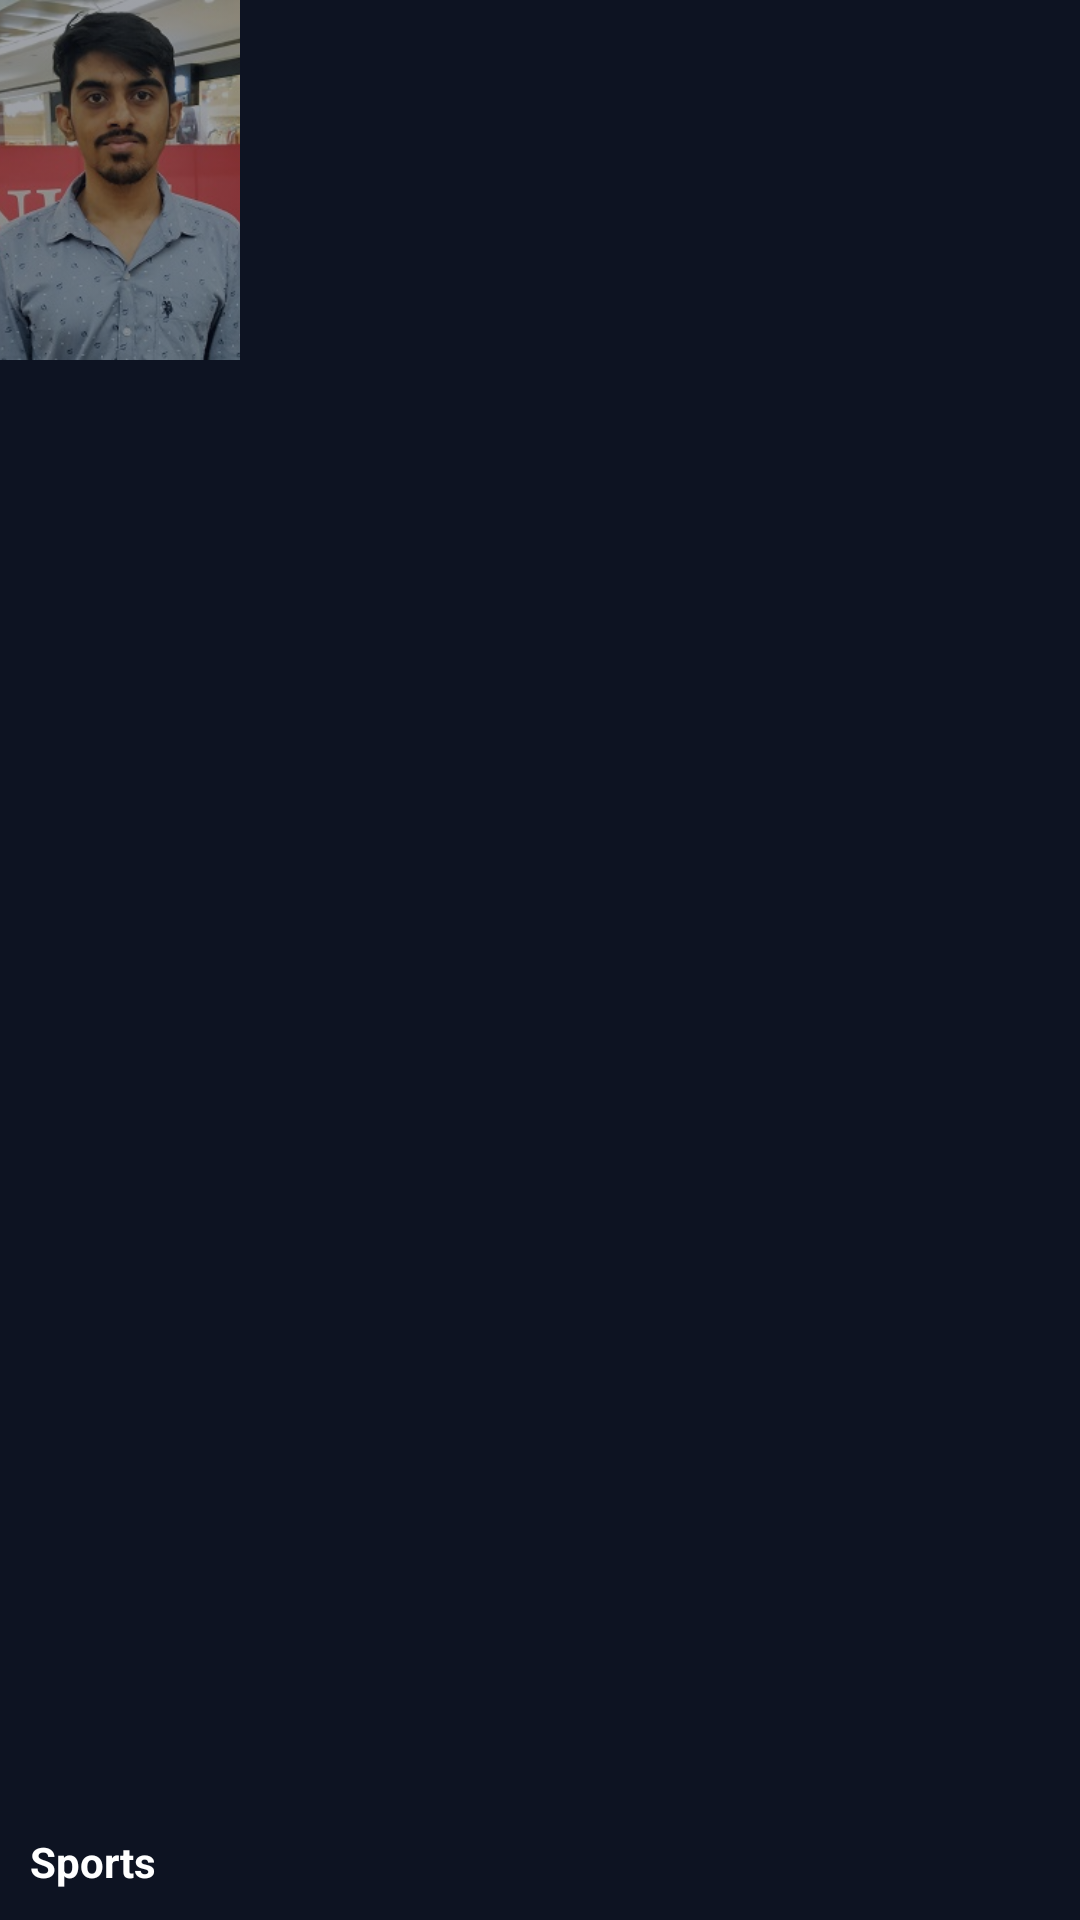

Where icons sit on this 1080x1920 app screen, as region(x1, y1, x2, y2):
photo: region(0, 0, 240, 360)
